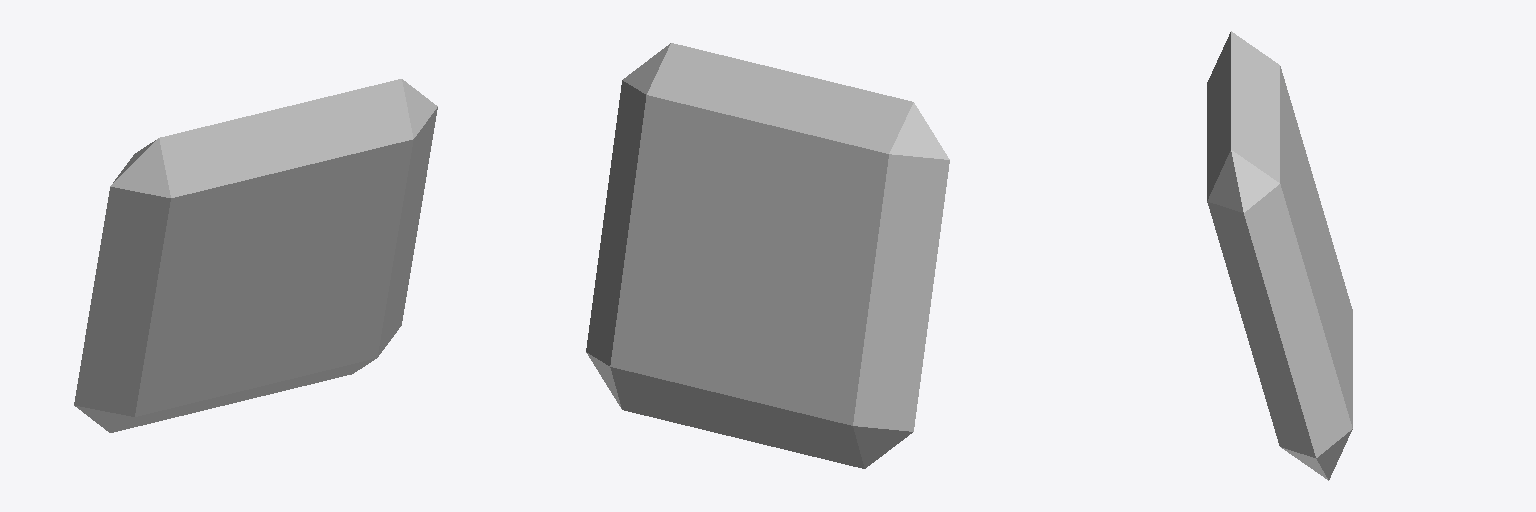
Rendered from pillow.obj.
3 views of the same model, side by side, from view 1: azimuth 30°, elevation 25°; view 2: azimuth 150°, elevation 25°; view 3: azimuth 270°, elevation 25° (orthographic).
Parts seen in each view (by area): view 1: pillow; view 2: pillow; view 3: pillow.
Boxes of the visible parts, <box> form: pillow: <box>74,79,437,432</box>; pillow: <box>586,43,949,468</box>; pillow: <box>1207,31,1352,480</box>.
Size of the model in its own units: 2.3 by 2.22 by 0.8848.